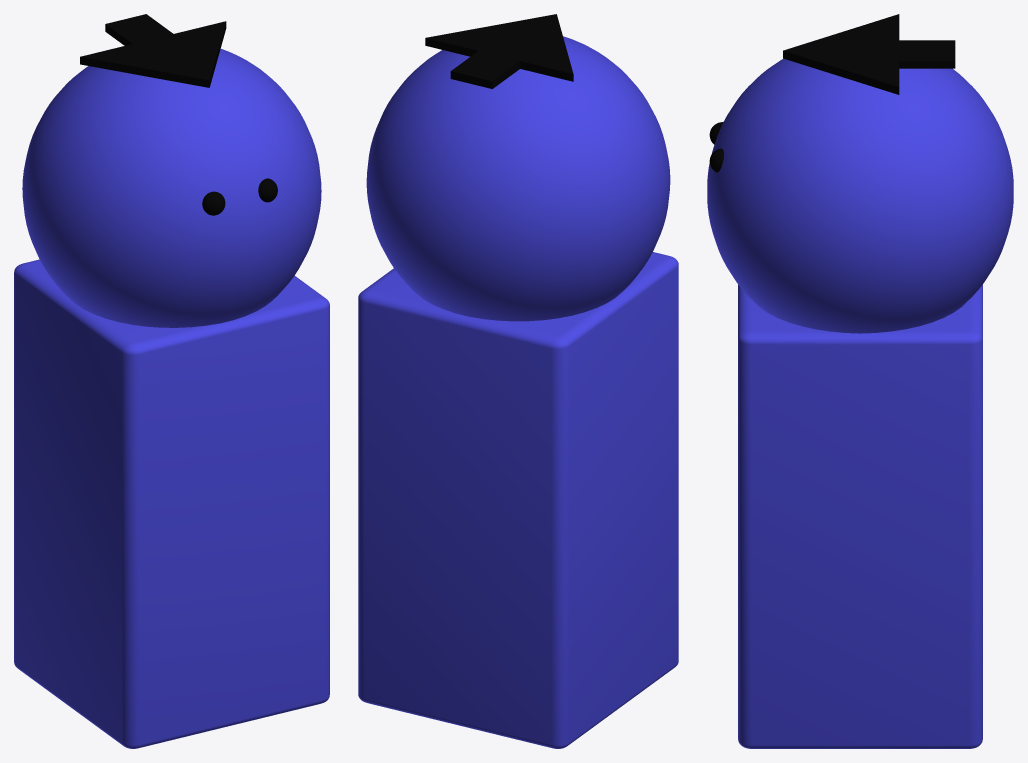
The model's file is 6purple.obj.
The picture shows the model from 3 angles, left to right: view 1: azimuth 30°, elevation 25°; view 2: azimuth 150°, elevation 25°; view 3: azimuth 270°, elevation 25°; orthographic projection. The views are drawn at different scales.
Visible parts, largest first — view 1: Curve.004_Curve.007; view 2: Curve.004_Curve.007; view 3: Curve.004_Curve.007.
Part boxes in pixels (left/top/right/bottom): Curve.004_Curve.007: left=14, top=14, right=329, bottom=748; Curve.004_Curve.007: left=358, top=14, right=678, bottom=748; Curve.004_Curve.007: left=707, top=14, right=1013, bottom=748.
Bounding box in the file's own units: 0.2062 × 0.4815 × 0.2057.
